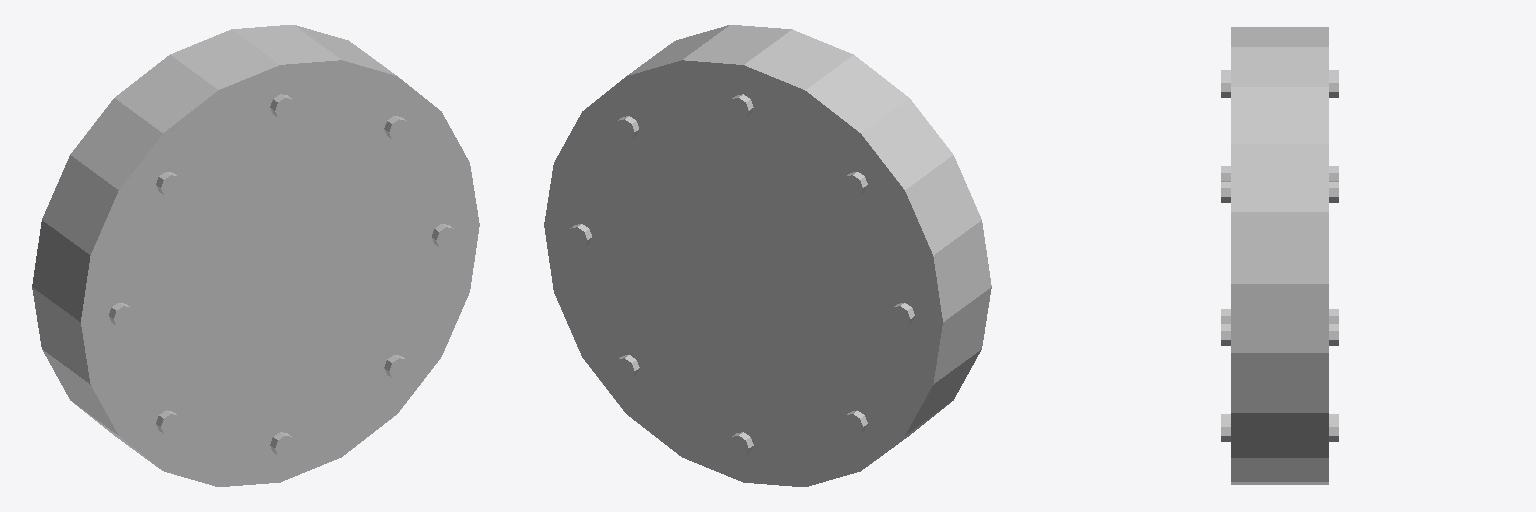
Rendered from wheel.obj.
The picture shows the model from 3 angles: view 1: azimuth 30°, elevation 25°; view 2: azimuth 150°, elevation 25°; view 3: azimuth 270°, elevation 25°; orthographic projection.
Visible parts, largest first — view 1: pWheelBase; view 2: pWheelBase; view 3: pWheelBase.
Part boxes in pixels (x1,y1,x2,y2): pWheelBase: (32, 25, 479, 486); pWheelBase: (544, 25, 991, 486); pWheelBase: (1231, 27, 1328, 484).
Size of the model in its own units: 8.55 by 8.55 by 2.17.